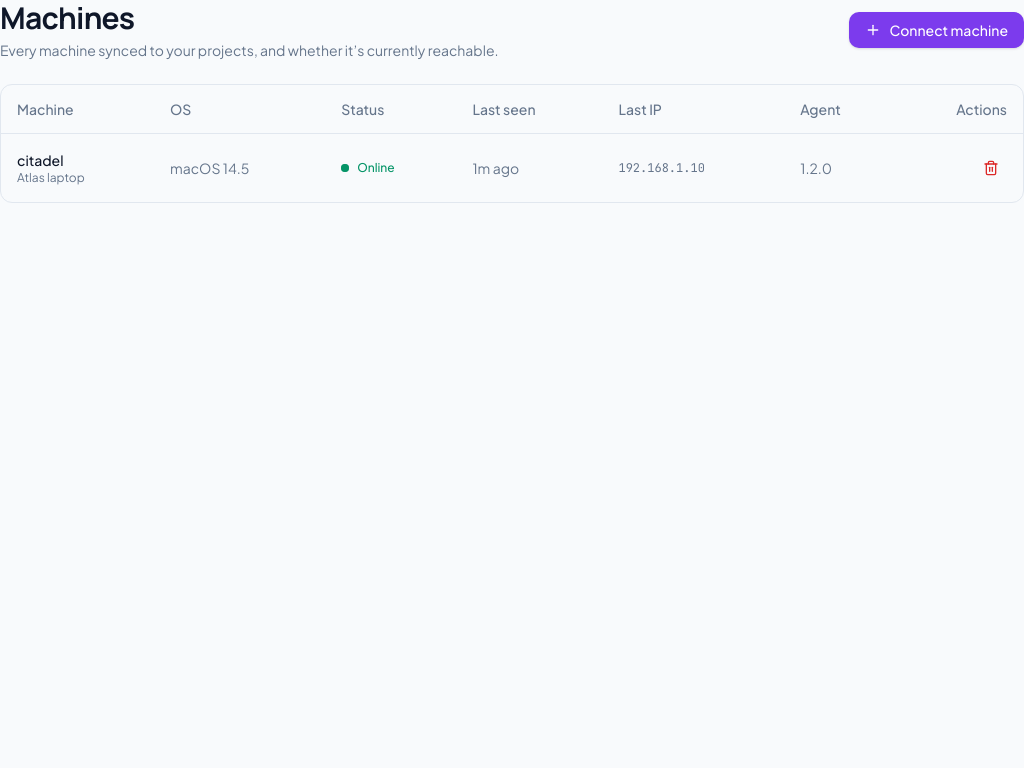
it: Machines › opens the create-machine dialog, submits, reveals the one-time token, and invalidates the machines list
Expected: the text "citadel" is shown, [17, 150, 64, 168]
Step 1. Press Enter in the button "Connect machine", box [849, 12, 1023, 48]
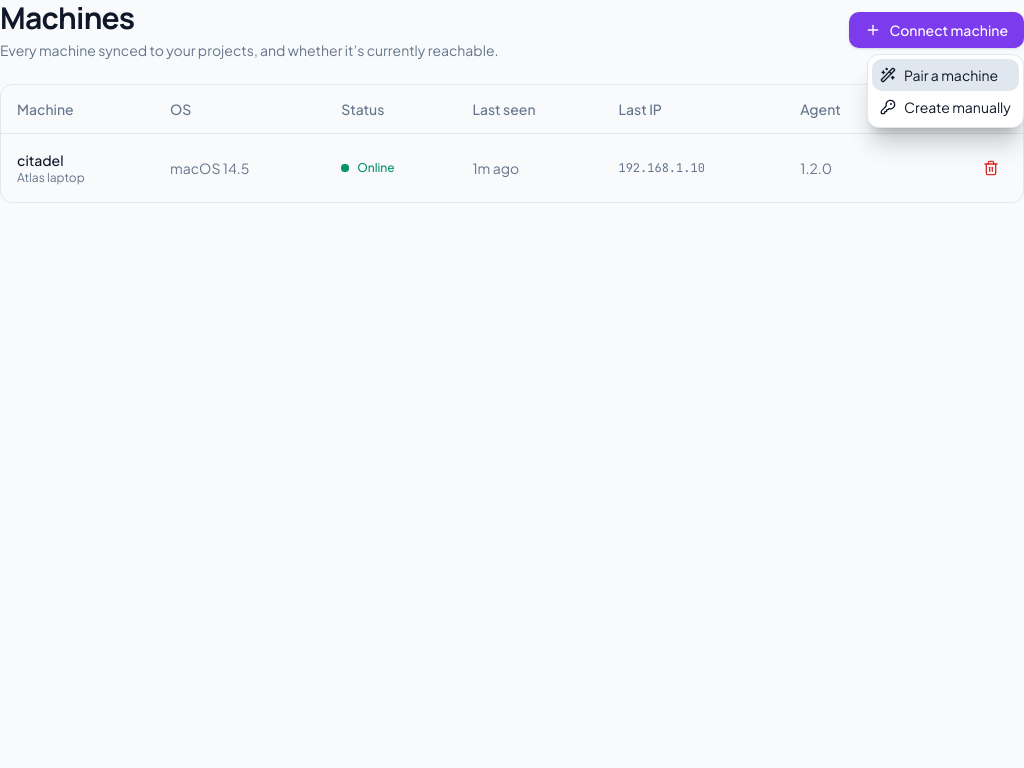
Step 2. Click the menu item "Create manually" → click(945, 107), box [880, 98, 1011, 116]
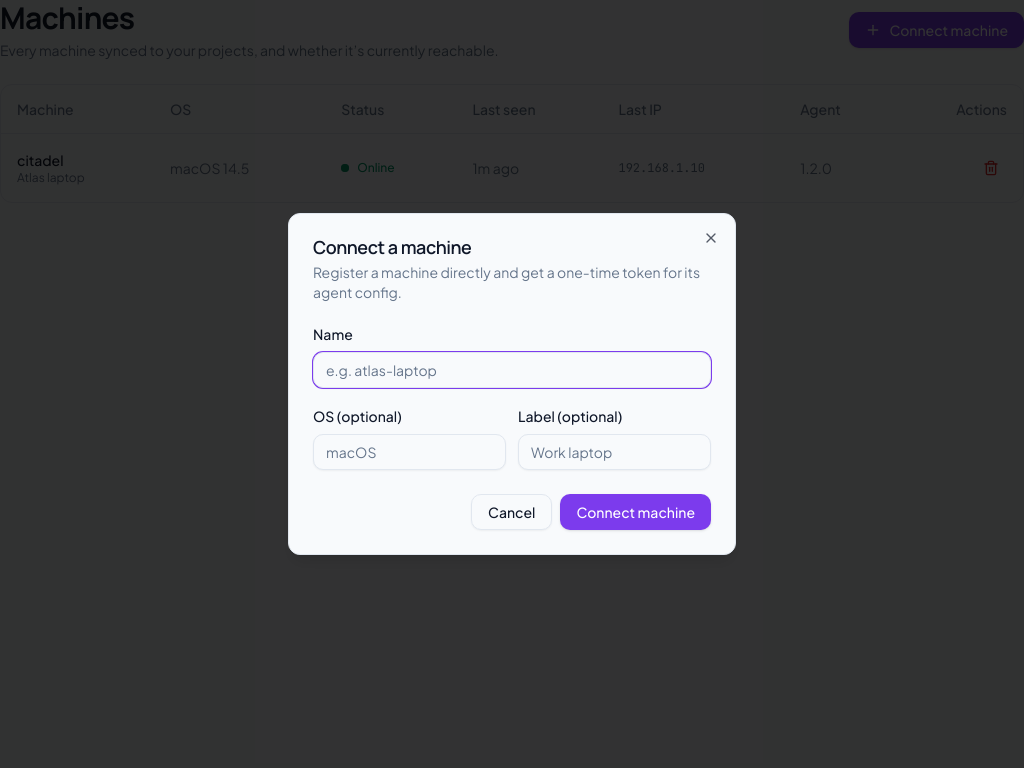
Step 3. Type "new-machine" into the field labelled "Name" → (512, 370), box [313, 352, 711, 388]
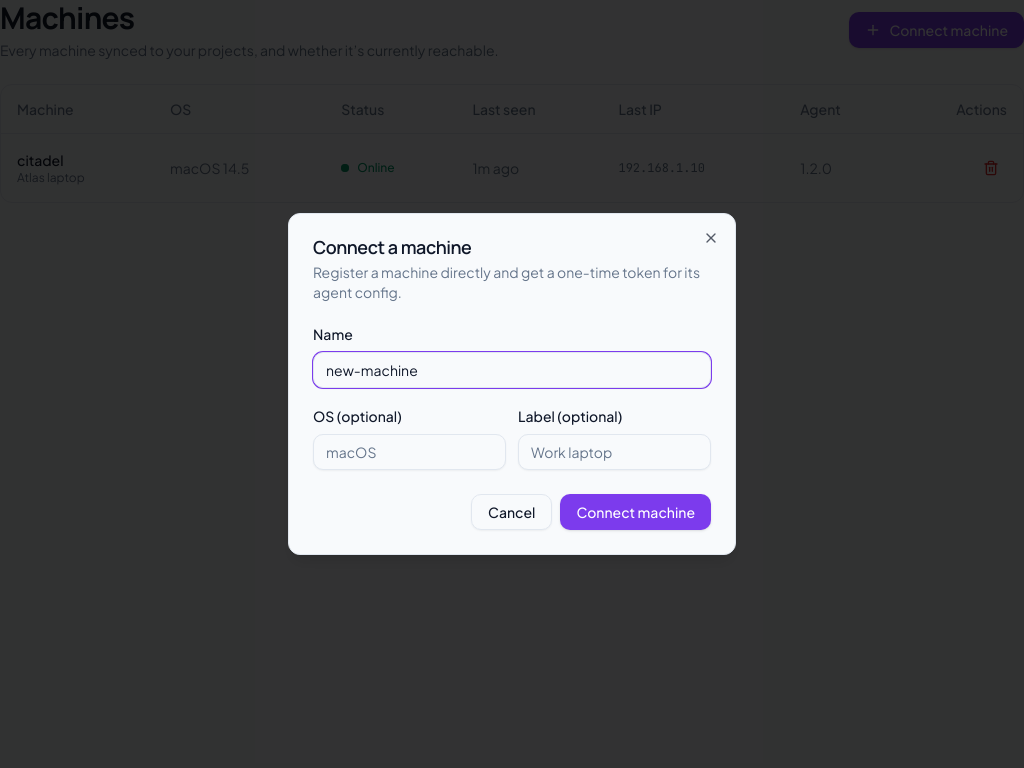
Step 4. Click the button "Connect machine" → click(636, 512), box [560, 494, 711, 530]
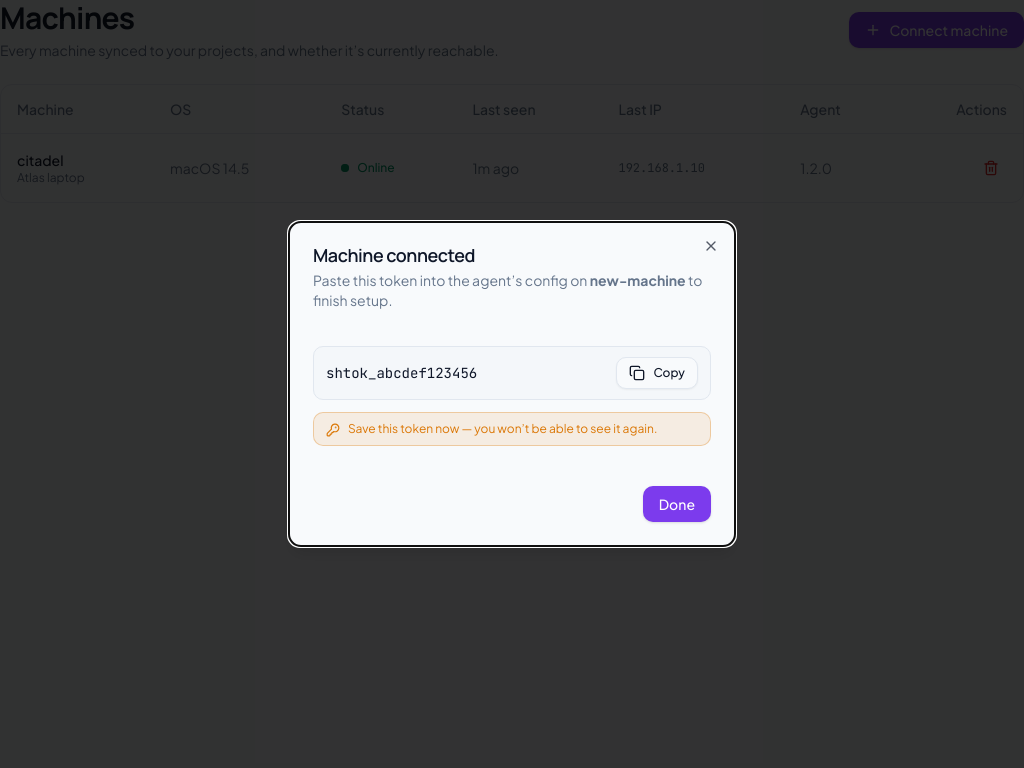
Now the text "shtok_abcdef123456" is shown, box [326, 364, 477, 382]
Now the text "Save this token now — you won’t be able to see it again." is shown, box [348, 421, 657, 437]
